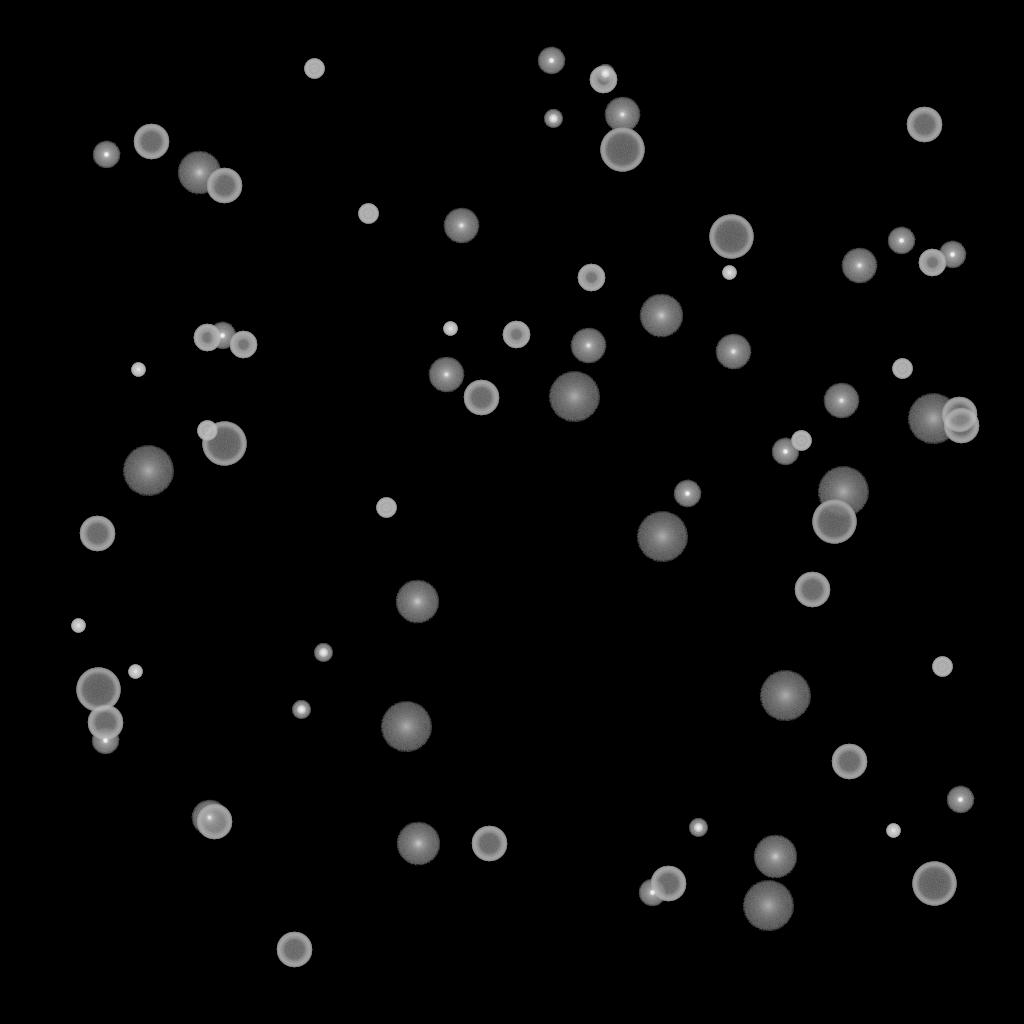depth:-10: (638, 879, 666, 907), (771, 438, 799, 466), (91, 727, 119, 755), (208, 322, 236, 350), (946, 786, 974, 814), (92, 141, 120, 169), (887, 227, 915, 255), (537, 47, 565, 75), (673, 480, 701, 508), (938, 241, 966, 269)
depth:-20: (292, 701, 310, 719), (544, 110, 562, 128), (314, 644, 332, 662), (689, 819, 707, 837), (596, 65, 614, 83)
depth:-30: (443, 322, 457, 336), (71, 619, 85, 633), (128, 665, 142, 679), (131, 363, 145, 377), (886, 824, 900, 838), (722, 266, 736, 280)
depth:-40: (932, 657, 952, 677), (892, 359, 912, 379), (791, 431, 811, 451), (376, 498, 396, 518), (197, 421, 217, 441), (304, 59, 324, 79), (358, 204, 378, 224)
depth:-50: (918, 249, 946, 277), (193, 324, 221, 352), (229, 331, 257, 359), (502, 321, 530, 349), (577, 264, 605, 292), (589, 66, 617, 94)
depth:-60: (206, 168, 242, 204), (941, 397, 977, 433), (196, 804, 232, 840), (943, 408, 979, 444), (79, 516, 115, 552), (831, 744, 867, 780), (87, 705, 123, 741), (471, 826, 507, 862), (133, 124, 169, 160), (794, 572, 830, 608), (650, 866, 686, 902), (276, 932, 312, 968), (906, 107, 942, 143), (463, 380, 499, 416)
depth:-70: (912, 862, 956, 906), (202, 422, 246, 466), (76, 668, 120, 712), (709, 215, 753, 259), (812, 500, 856, 544), (600, 128, 644, 172)
depth:0: (823, 383, 859, 419), (191, 800, 227, 836), (443, 208, 479, 244), (715, 334, 751, 370), (570, 328, 606, 364), (604, 97, 640, 133), (428, 357, 464, 393), (841, 248, 877, 284)
depth:10: (395, 580, 439, 624), (396, 822, 440, 866), (753, 835, 797, 879), (639, 294, 683, 338), (177, 151, 221, 195)
depth:20: (759, 671, 811, 721), (636, 512, 688, 562), (742, 881, 794, 931), (548, 372, 600, 422), (380, 702, 432, 752), (122, 446, 174, 496), (907, 394, 959, 444), (817, 467, 869, 517)
